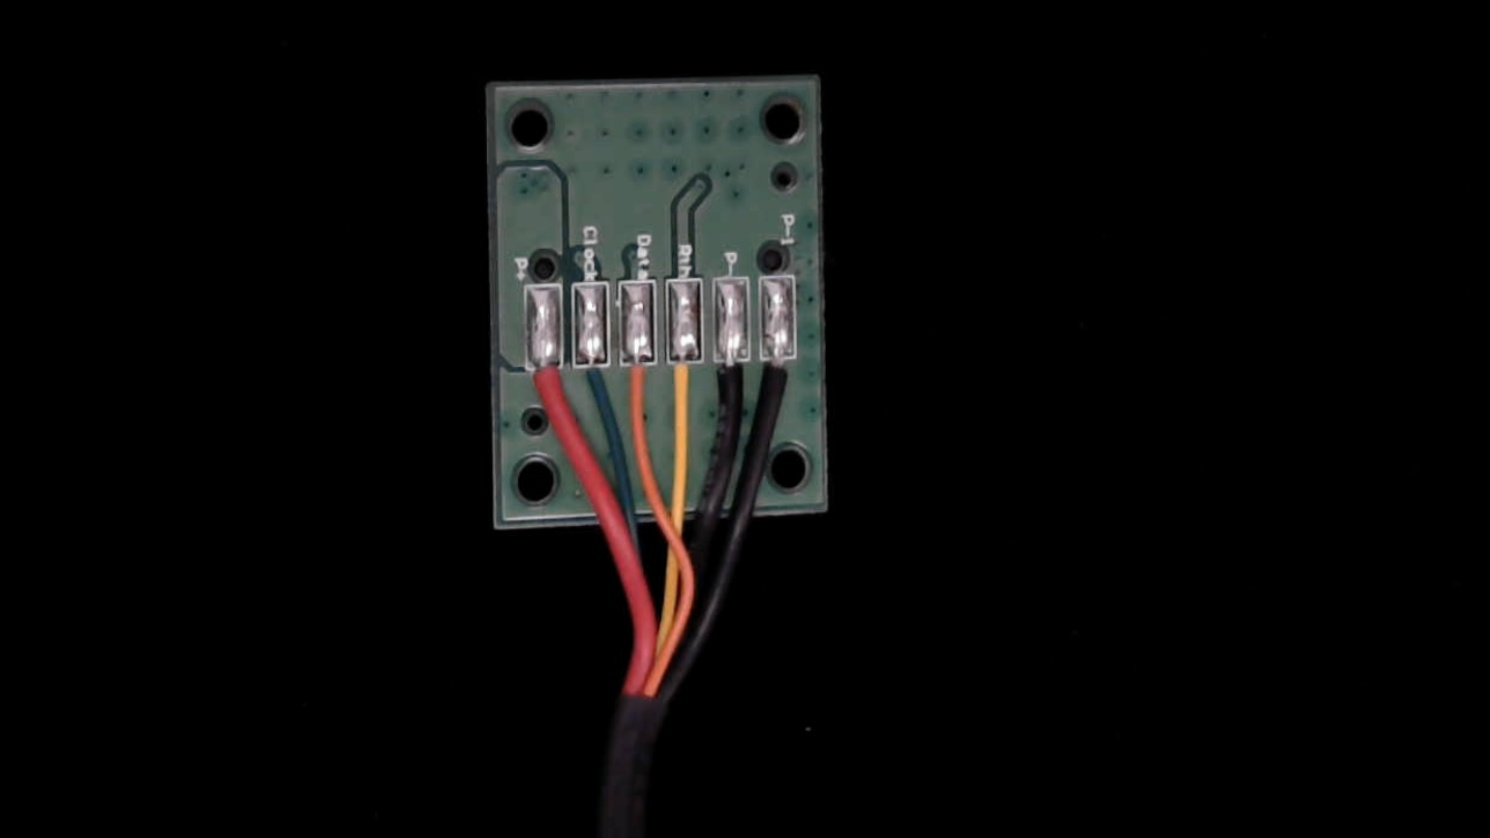Black: (708, 343, 752, 427)
Black1: (759, 339, 799, 429)
Green: (574, 342, 613, 427)
Orange: (619, 342, 658, 439)
Red: (522, 346, 564, 440)
Yellow: (666, 341, 704, 427)
